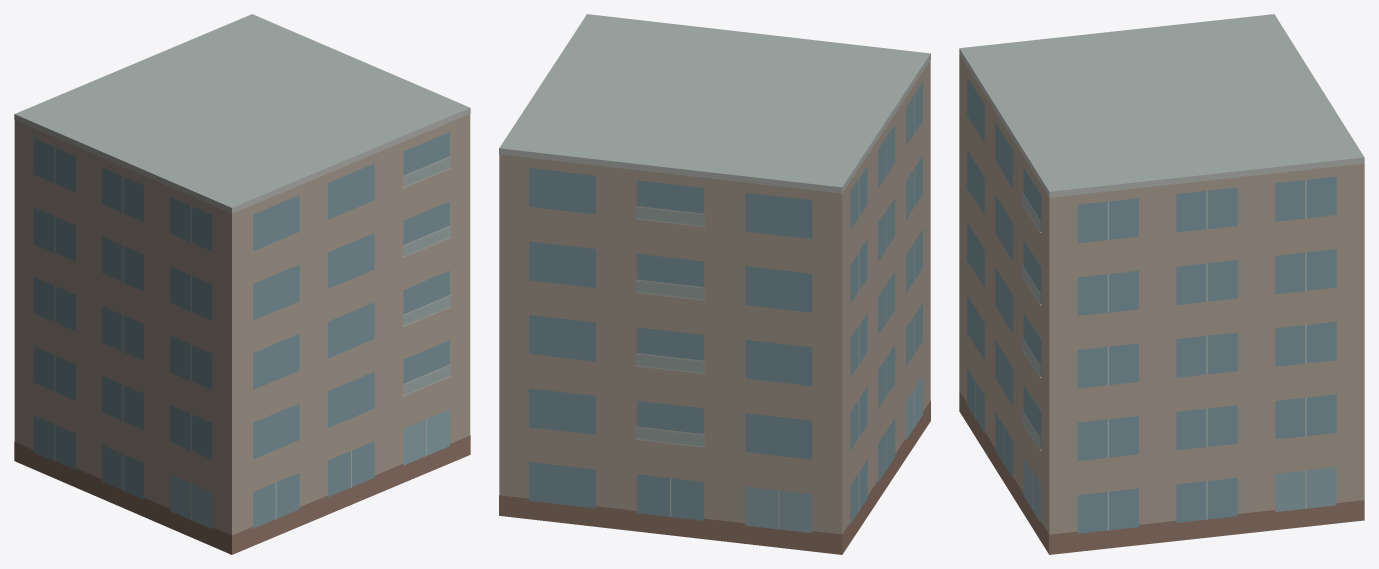
The model's file is survey-upis-32704115.glb.
3 renders of one model, left to right at view 1: azimuth 30°, elevation 25°; view 2: azimuth 150°, elevation 25°; view 3: azimuth 270°, elevation 25°, orthographic. The views are drawn at different scales.
Parts seen in each view (by area): view 1: survey-upis-32704115.tmp; view 2: survey-upis-32704115.tmp; view 3: survey-upis-32704115.tmp.
Boxes of the visible parts, x1,y1,x2,y2 form: survey-upis-32704115.tmp: [14, 14, 470, 554]; survey-upis-32704115.tmp: [499, 14, 930, 554]; survey-upis-32704115.tmp: [959, 14, 1364, 554].
Size of the model in its own units: 15.37 by 14.61 by 14.79.
